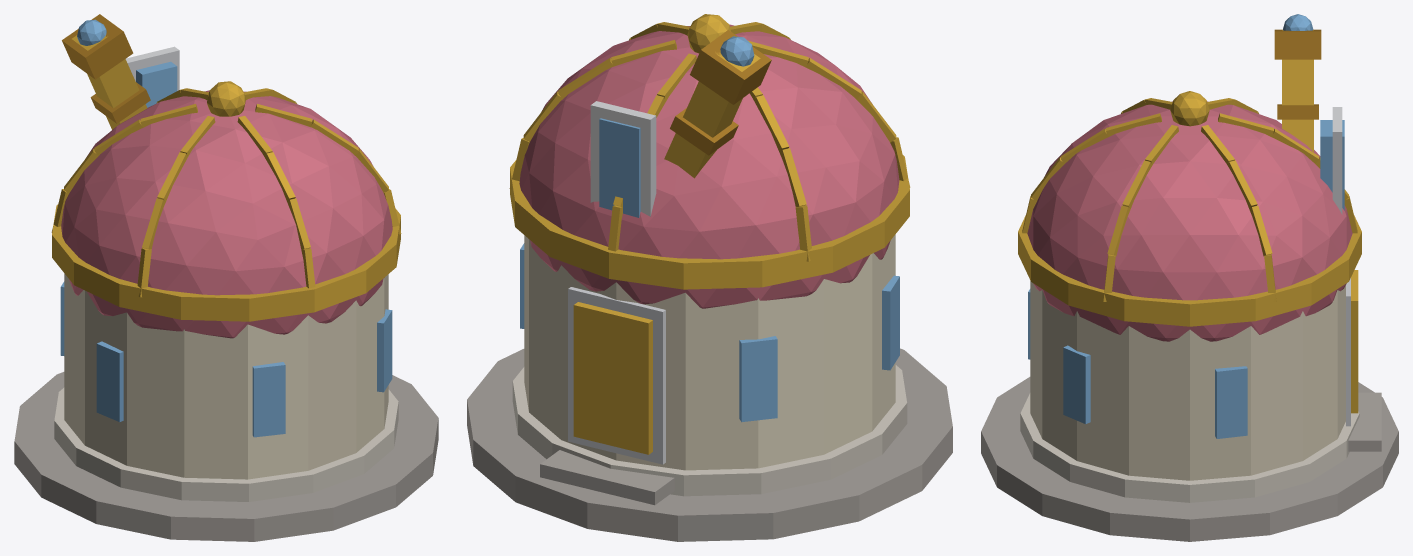
The model's file is Decor_CloudTemple_Observatory.fbx.
The picture shows the model from 3 angles, left to right: view 1: azimuth 30°, elevation 25°; view 2: azimuth 150°, elevation 25°; view 3: azimuth 270°, elevation 25°; orthographic projection. The views are drawn at different scales.
Visible parts, largest first — view 1: Observatory_Body; view 2: Observatory_Body; view 3: Observatory_Body.
Part boxes in pixels (left/top/right/bottom): Observatory_Body: left=14, top=14, right=438, bottom=541; Observatory_Body: left=467, top=14, right=952, bottom=541; Observatory_Body: left=981, top=14, right=1398, bottom=541.
Bounding box in the file's own units: 17 × 18 × 17.
